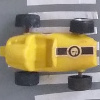amarillo: (3, 15, 97, 87)
